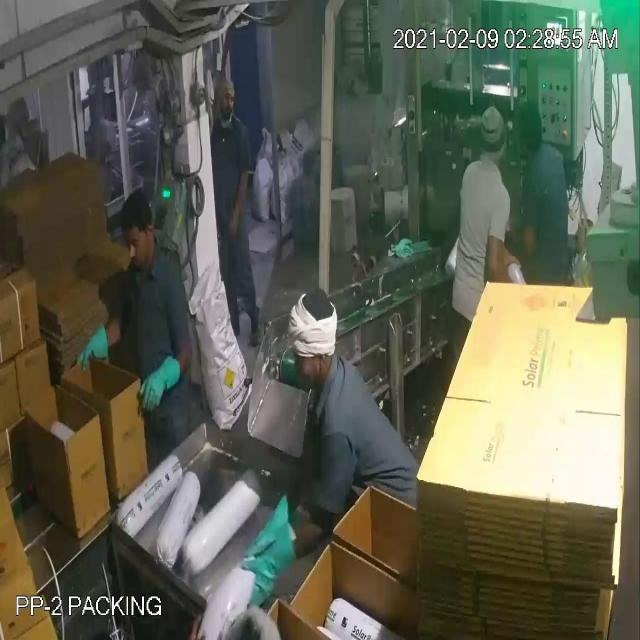Gloves: (28, 62, 503, 569)
